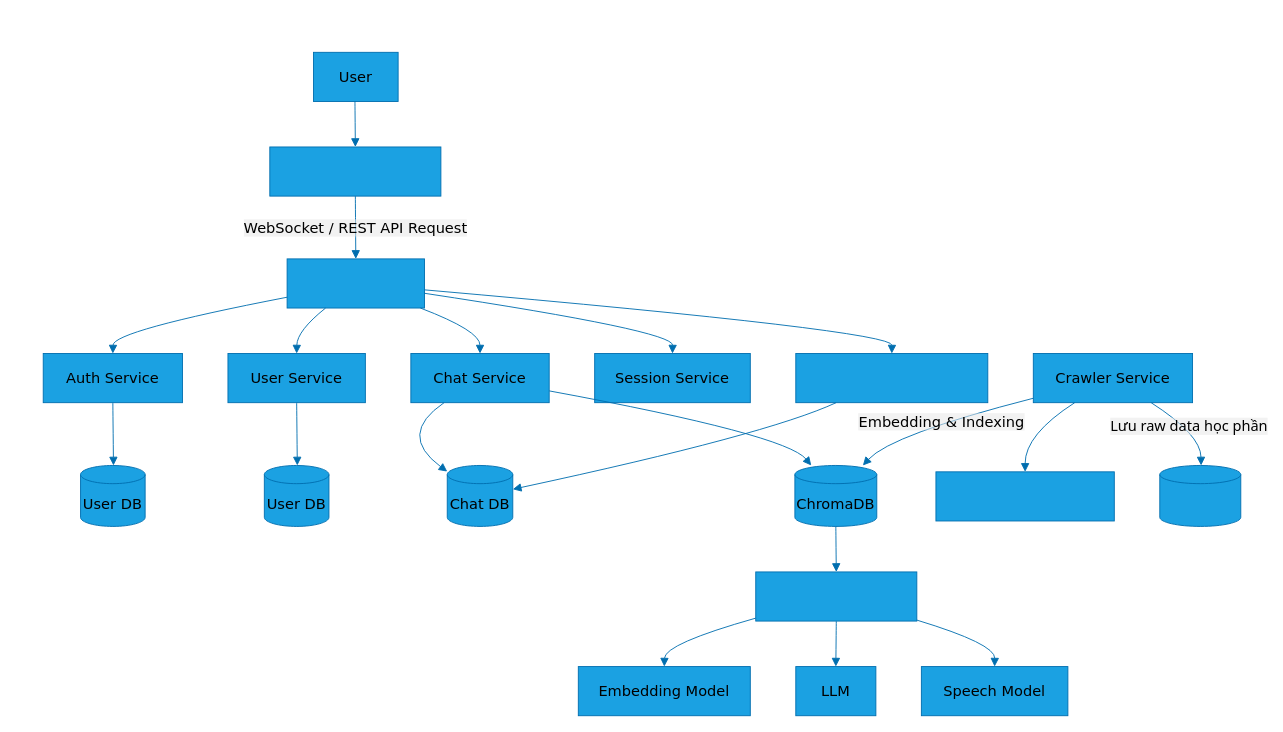
Image size: 1283x732. Some labels were removed from this diagram. Here are the shapes that lost their labels. From the top down, the box of each, then its label:
(269, 146, 441, 196): ReactJS Frontend
(286, 258, 425, 308): API Gateway
(795, 353, 988, 403): Chat-Session Service
(935, 471, 1114, 521): HUST Website
(1159, 465, 1241, 526): Course DB
(755, 571, 917, 621): OpenAI
